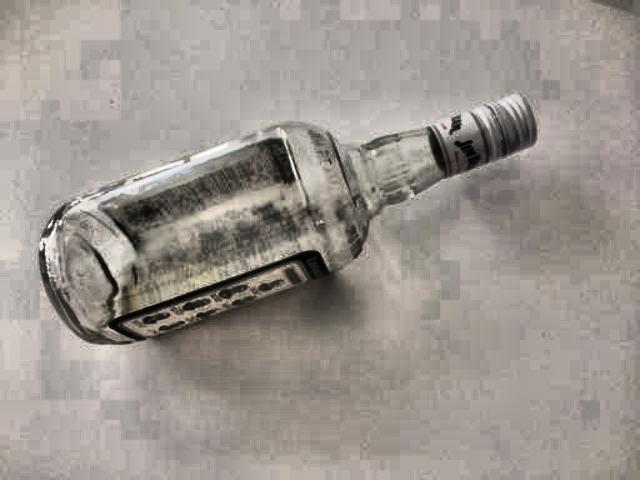Bottles: (22, 76, 547, 369)
